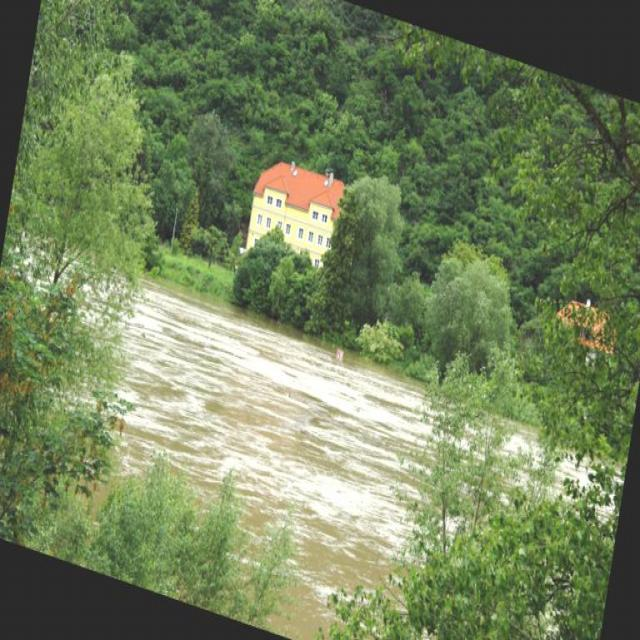flood: (79, 258, 449, 600)
